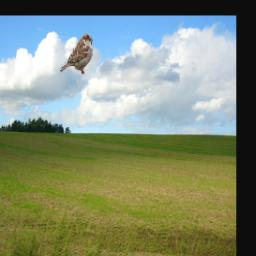Sparrow: (59, 33, 93, 74)
